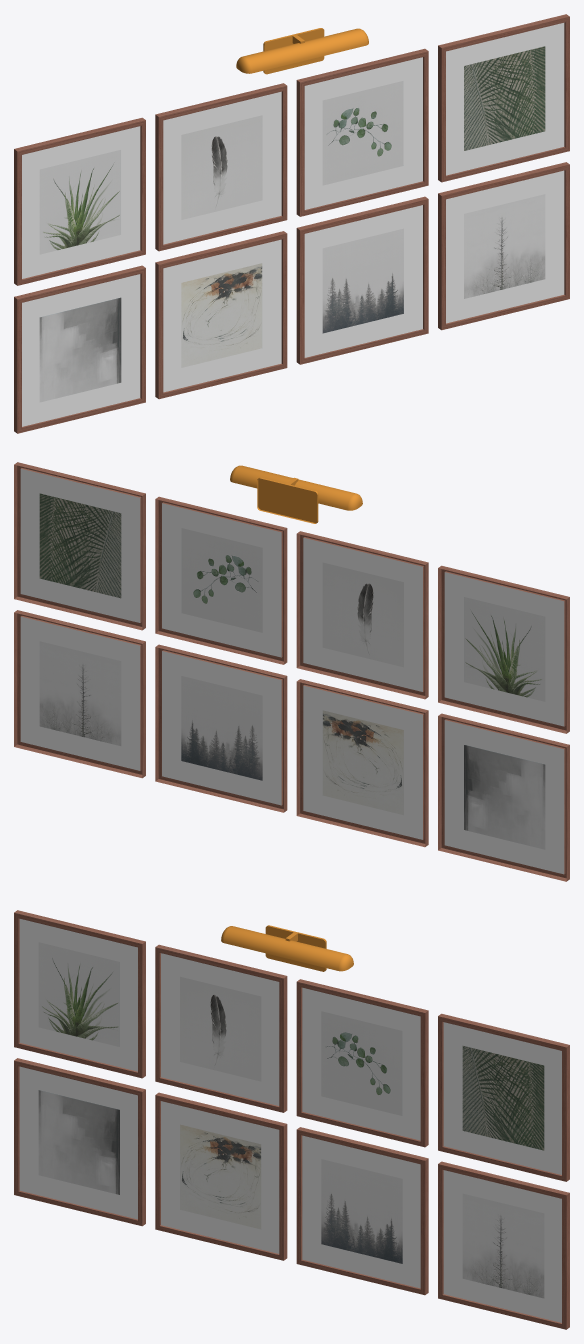
Rendered from geo_pictureFrames_withLight.fbx.
3 renders of one model, top to bottom at view 1: azimuth 30°, elevation 25°; view 2: azimuth 150°, elevation 25°; view 3: azimuth 330°, elevation 25°, orthographic.
Visible parts, largest first — view 1: geo_pictureFrames_withLight_LOD0; view 2: geo_pictureFrames_withLight_LOD0; view 3: geo_pictureFrames_withLight_LOD0.
Part boxes in pixels (bbox=[...]): geo_pictureFrames_withLight_LOD0: bbox=[14, 14, 569, 433]; geo_pictureFrames_withLight_LOD0: bbox=[14, 462, 569, 881]; geo_pictureFrames_withLight_LOD0: bbox=[14, 910, 569, 1329].
Size of what is drawn, in the model's own units: 1.98 by 1.12 by 0.097.
